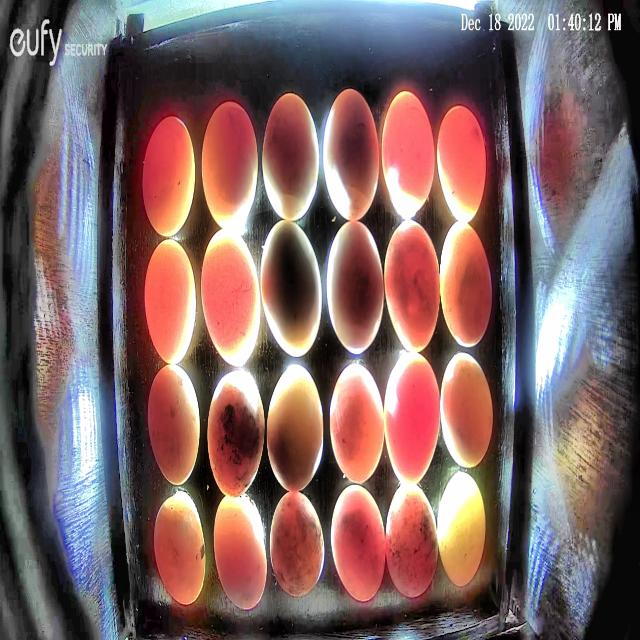DE: (201, 228, 261, 366), (326, 220, 384, 354), (322, 90, 379, 221), (206, 372, 265, 498), (384, 219, 439, 352), (263, 93, 320, 221), (384, 354, 440, 484), (201, 102, 258, 229), (267, 364, 322, 492), (382, 89, 434, 219), (440, 220, 492, 349), (144, 239, 196, 364), (330, 363, 384, 482), (330, 484, 385, 600), (148, 363, 200, 484), (143, 117, 195, 237), (215, 493, 268, 610), (441, 352, 494, 468), (386, 484, 438, 598), (270, 491, 325, 598), (154, 492, 205, 605), (437, 106, 486, 223), (438, 469, 485, 588)
